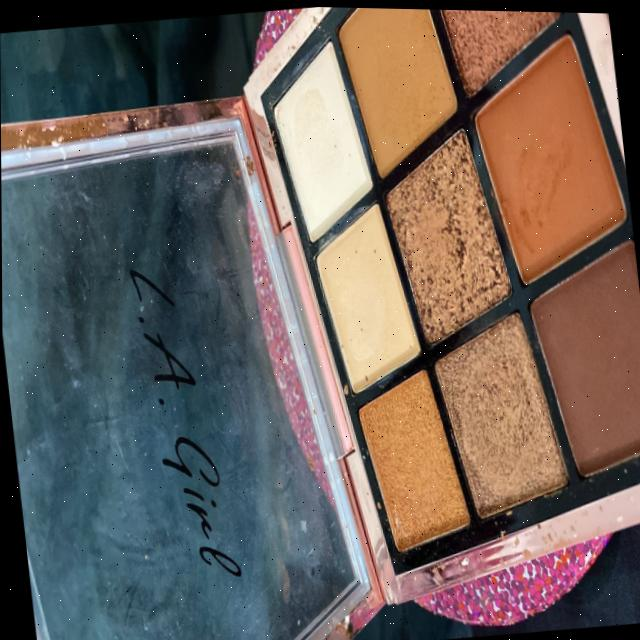eye shade: (246, 4, 640, 640)
